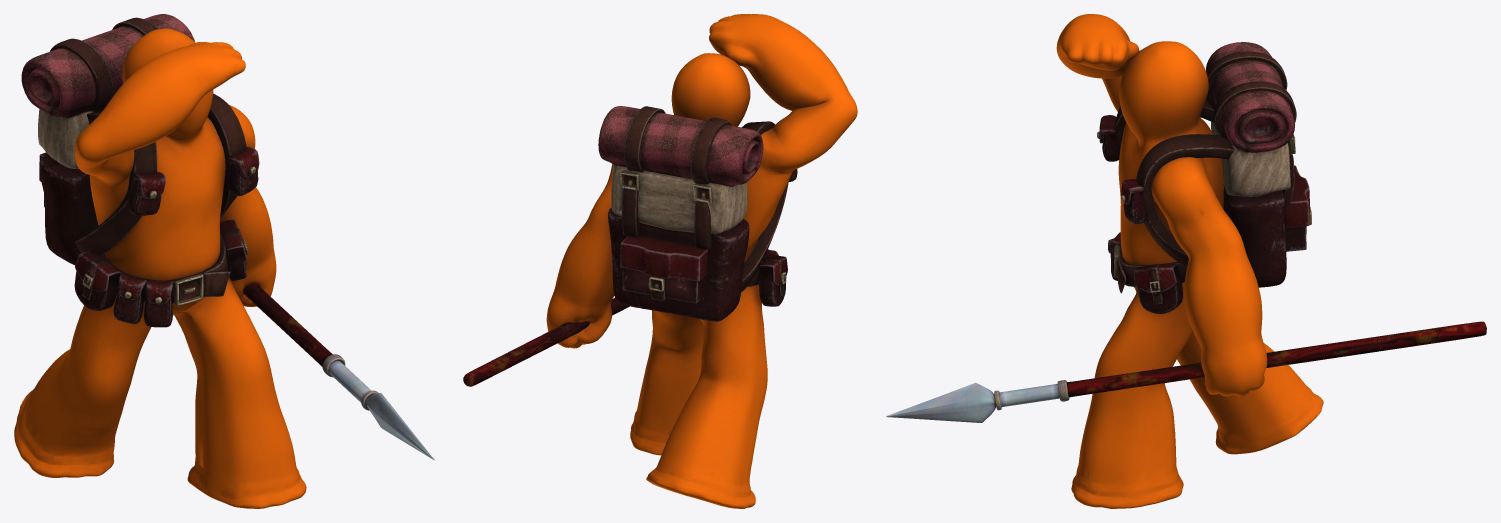
The model's file is MZ4250 - Plasmoid Explorer (Orange).glb.
3 views of the same model, side by side, from view 1: azimuth 30°, elevation 25°; view 2: azimuth 150°, elevation 25°; view 3: azimuth 270°, elevation 25° (orthographic). The views are drawn at different scales.
Visible parts, largest first — view 1: Plasmoid Explorer.001; view 2: Plasmoid Explorer.001; view 3: Plasmoid Explorer.001.
Part boxes in pixels (left/top/right/bottom): Plasmoid Explorer.001: left=14, top=14, right=434, bottom=508; Plasmoid Explorer.001: left=463, top=14, right=857, bottom=508; Plasmoid Explorer.001: left=886, top=14, right=1486, bottom=508.
Bounding box in the file's own units: 100 × 169 × 211.
1 material, 1 textured.
